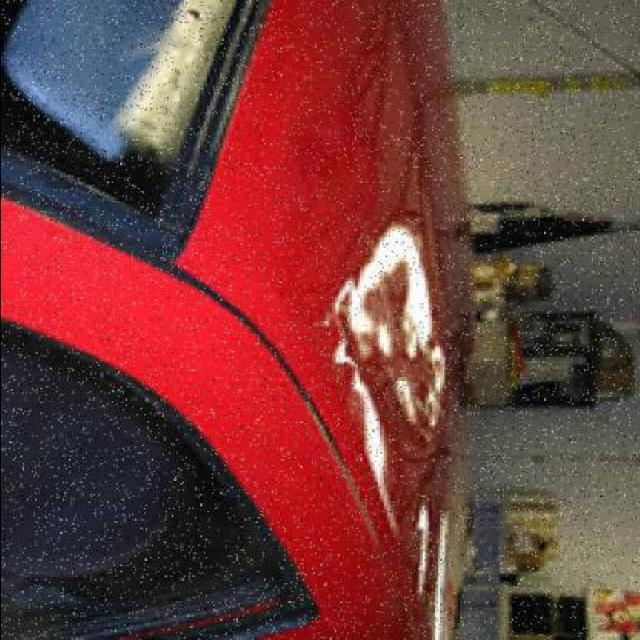roof-dent: (125, 0, 473, 529)
